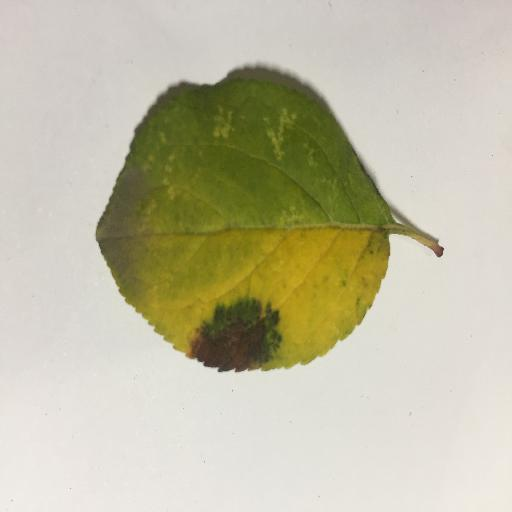Brown_Spot: (183, 304, 280, 364)
